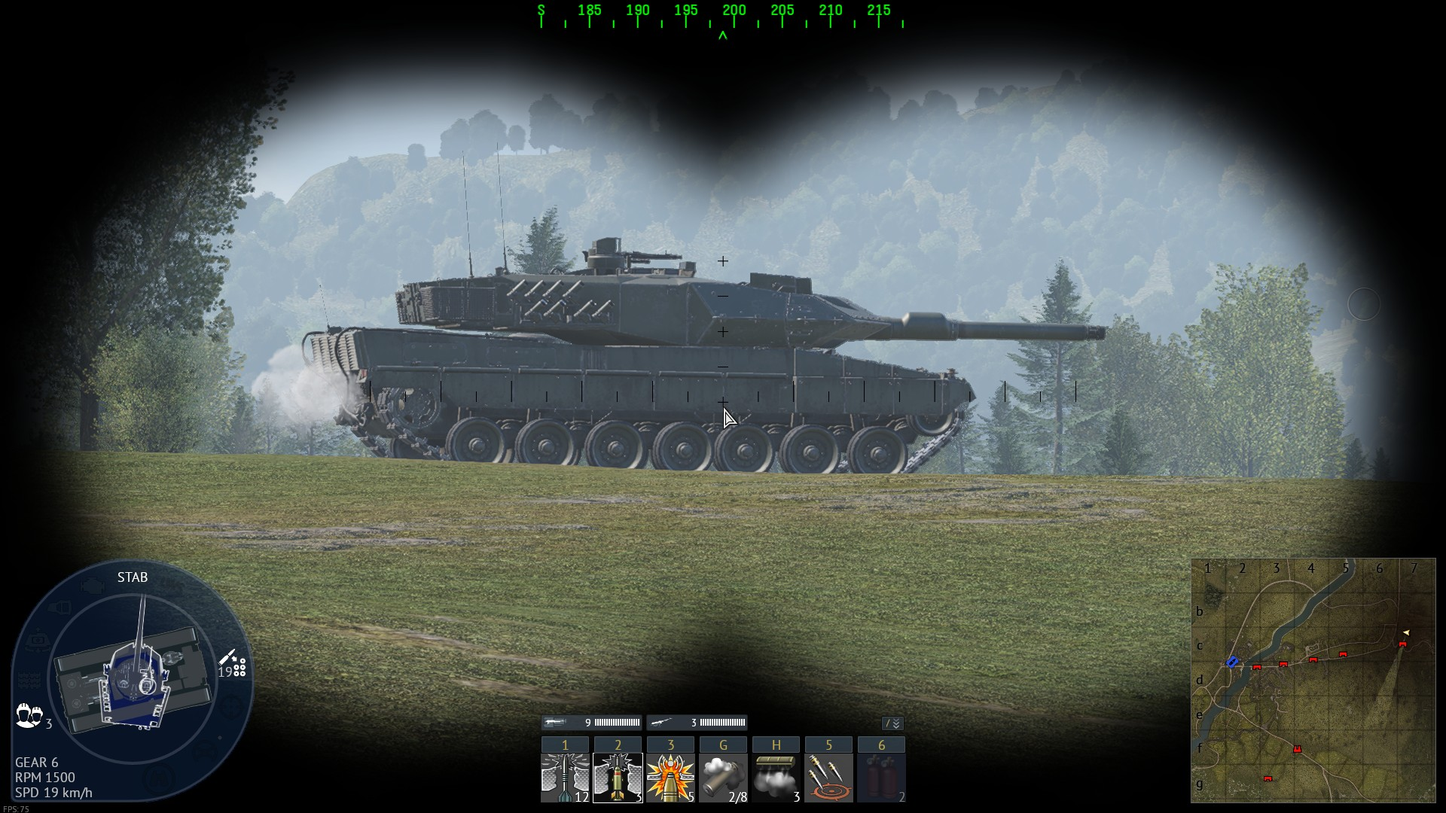leopard2: (300, 237, 1107, 476)
